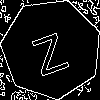Z: (26, 24, 70, 77)
